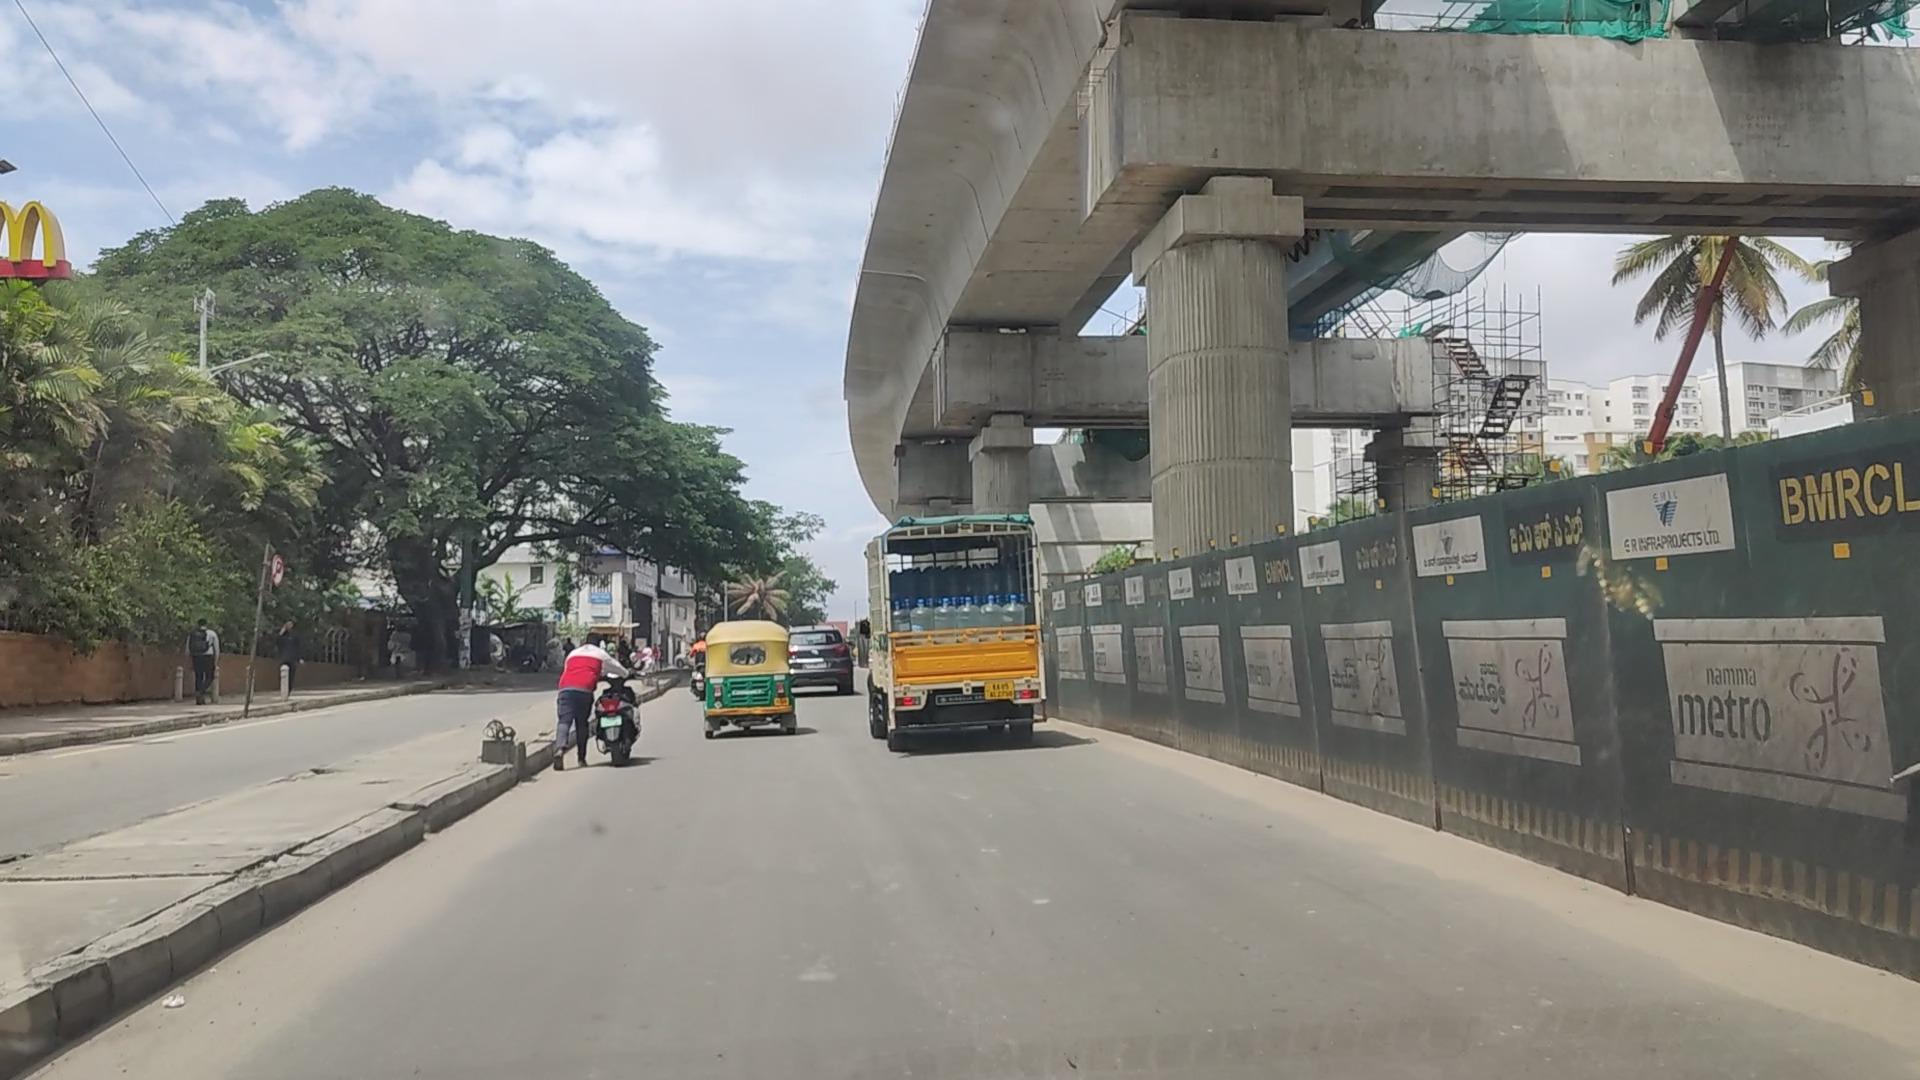HMV: (884, 512, 1058, 756)
LMV: (700, 618, 798, 737)
